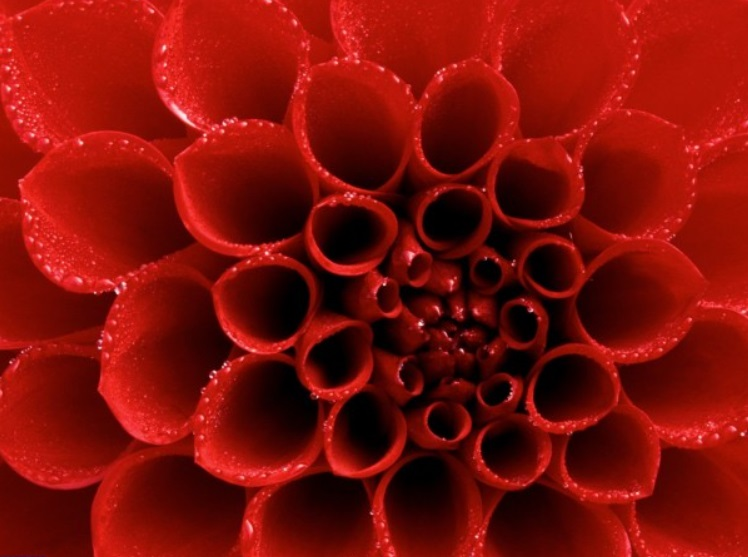Red: (16, 23, 736, 548)
